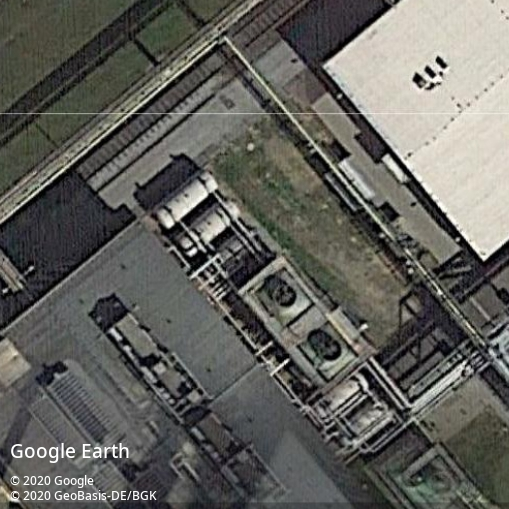Vent: (273, 284, 298, 308), (318, 338, 342, 362)
